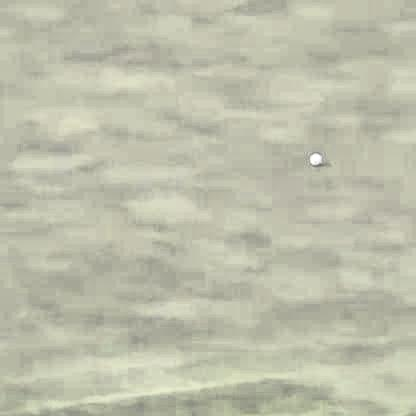golfball: (304, 151, 323, 167)
